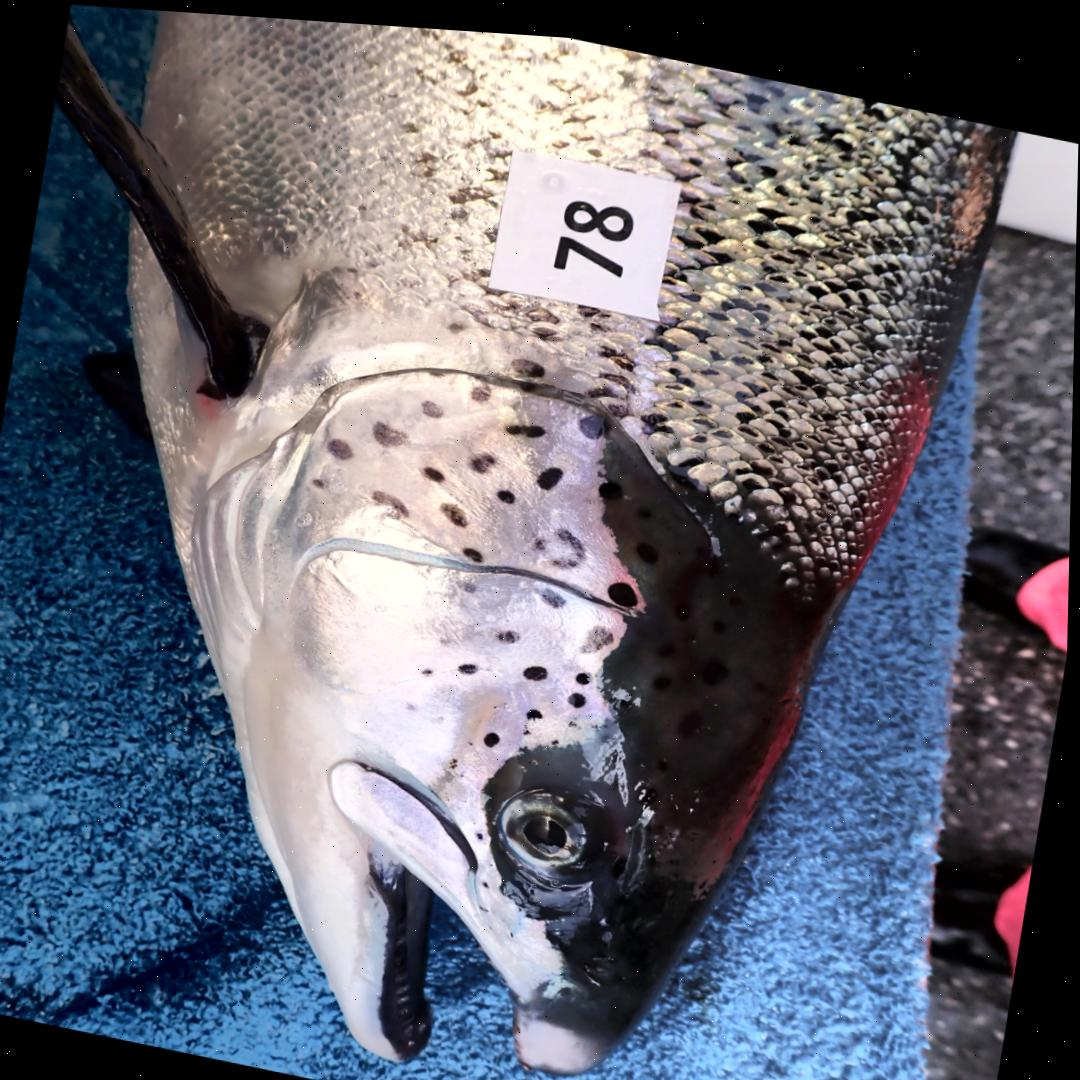spot: (555, 519, 589, 560), (374, 484, 410, 515), (373, 414, 409, 440), (583, 616, 615, 644), (609, 572, 640, 597), (442, 494, 471, 519), (580, 405, 608, 430), (539, 457, 564, 481), (329, 432, 354, 454), (471, 445, 498, 465), (541, 580, 569, 599), (507, 416, 547, 429), (601, 472, 625, 491), (422, 393, 445, 411), (527, 656, 551, 672), (498, 622, 521, 636), (424, 459, 445, 474), (464, 540, 485, 555), (472, 379, 493, 394), (486, 723, 504, 740), (571, 682, 589, 698), (458, 572, 478, 585), (577, 662, 593, 676), (499, 481, 516, 494), (460, 656, 480, 667), (534, 530, 549, 542), (529, 700, 545, 711), (314, 473, 328, 483), (425, 662, 435, 667), (453, 756, 460, 761), (454, 751, 460, 756)
